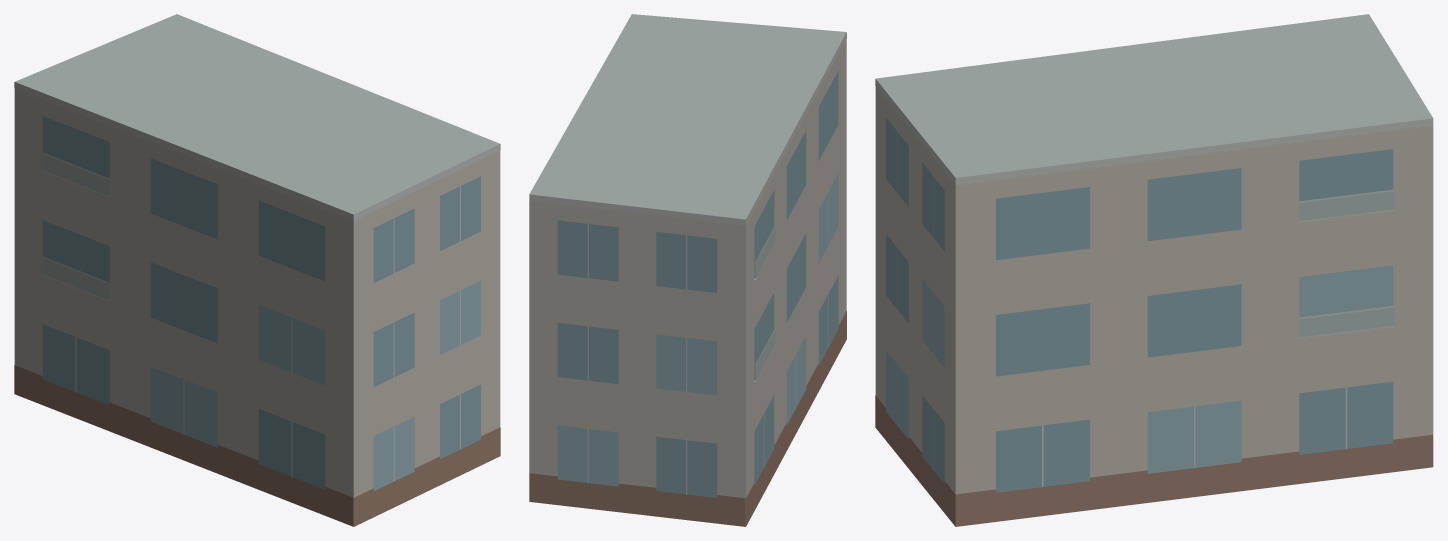
Rendered from survey-upis-32838788.glb.
3 views of the same model, side by side, from view 1: azimuth 30°, elevation 25°; view 2: azimuth 150°, elevation 25°; view 3: azimuth 270°, elevation 25° (orthographic). The views are drawn at different scales.
Visible parts, largest first — view 1: survey-upis-32838788.tmp; view 2: survey-upis-32838788.tmp; view 3: survey-upis-32838788.tmp.
Part boxes in pixels (left/top/right/bottom): survey-upis-32838788.tmp: left=14, top=14, right=500, bottom=526; survey-upis-32838788.tmp: left=529, top=14, right=846, bottom=526; survey-upis-32838788.tmp: left=875, top=14, right=1433, bottom=526.
Bounding box in the file's own units: 11.65 × 11.55 × 16.75.
